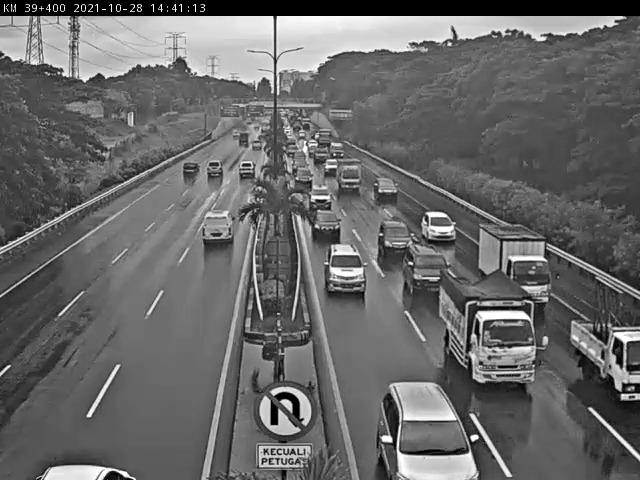car: (377, 381, 481, 480), (403, 246, 450, 298), (322, 238, 364, 287), (195, 218, 234, 259), (373, 217, 412, 252), (421, 212, 459, 245), (310, 205, 340, 236)
mid truck: (437, 271, 537, 389), (478, 224, 552, 310), (570, 317, 640, 399), (307, 183, 333, 208)
